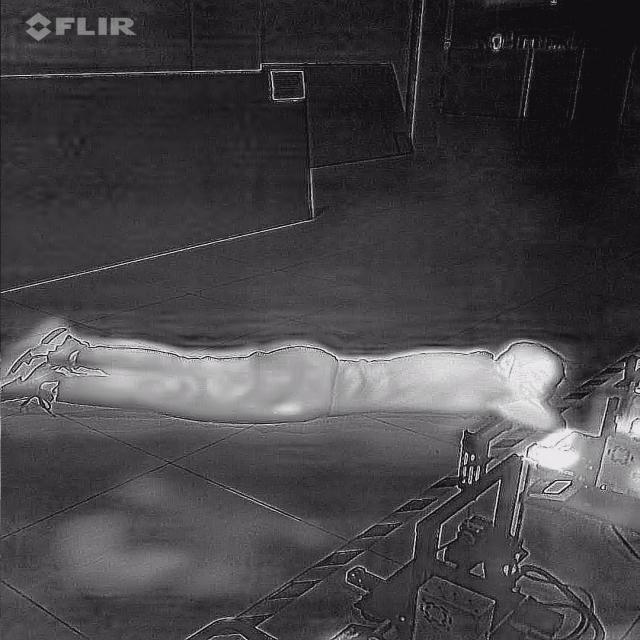Victim: (0, 322, 585, 435)
